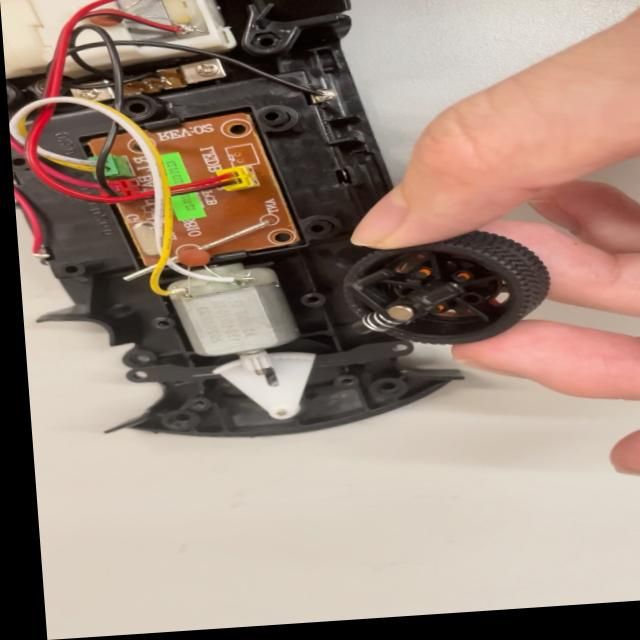motor: (165, 254, 308, 385)
wheel: (345, 229, 546, 358)
